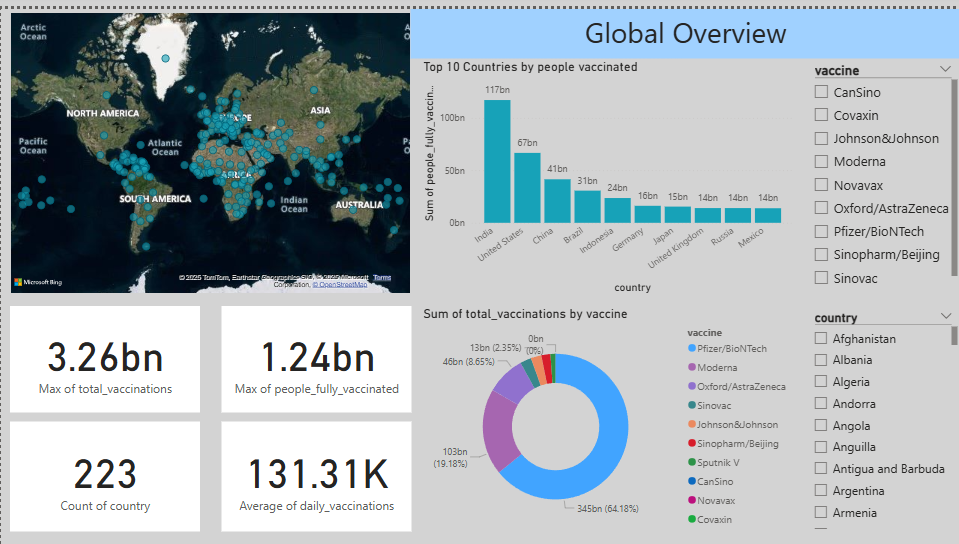

Layout of this report page (visuals, bound fields, positions):
{"tool":"powerbi","page":{"name":"Global Overview","canvas":[1280,720],"ordinal":0},"visuals":[{"type":"card","fields":{"Values":["Max(vaccine_cleaned.total_vaccinations)"]},"box":[12.9,395.2,253.2,141.9],"z":0},{"type":"card","fields":{"Values":["Max(vaccine_cleaned.people_fully_vaccinated)"]},"box":[293.5,395.2,253.2,141.9],"z":1000},{"type":"card","fields":{"Values":["Count(vaccine_cleaned.country)"]},"box":[12.9,550,253.2,146.8],"z":2000},{"type":"card","fields":{"Values":["Avg(vaccine_cleaned.daily_vaccinations)"]},"box":[293.5,550,253.2,146.8],"z":3000},{"type":"map","title":"countries fully vaccinates","fields":{"Category":["vaccine_cleaned.country","vaccine_cleaned.people_fully_vaccinated_per_hundred"]},"box":[12.9,0,533.9,383.9],"z":4000},{"type":"columnChart","title":"Top 10 Countries by people vaccinated","fields":{"Category":["vaccine_cleaned.country"],"Y":["Sum(vaccine_cleaned.people_fully_vaccinated)"]},"box":[558.1,66.1,503.2,317.7],"z":5000},{"type":"donutChart","fields":{"Category":["country_vaccinations_by_manufacturer.vaccine"],"Y":["Sum(country_vaccinations_by_manufacturer.total_vaccinations)"]},"box":[558.1,395.2,503.2,301.6],"z":6000},{"type":"slicer","fields":{"Values":["country_vaccinations_by_manufacturer.vaccine"]},"box":[1072.6,66.1,208.1,317.7],"z":7000},{"type":"slicer","fields":{"Values":["vaccine_cleaned.country"]},"box":[1072.6,395.2,208.1,301.6],"z":8000},{"type":"textbox","box":[546.8,0,733.9,66.1],"z":9000}]}

Visuals, with their boxes in screenshot pixels (x1, y1, x2, y2), scaled from the page's 1280x720 canvas onto the 959x544 screenshot:
card - Max(vaccine_cleaned.total_vaccinations): (10,299,199,406)
card - Max(vaccine_cleaned.people_fully_vaccinated): (220,299,410,406)
card - Count(vaccine_cleaned.country): (10,416,199,526)
card - Avg(vaccine_cleaned.daily_vaccinations): (220,416,410,526)
"countries fully vaccinates" map: (10,0,410,290)
"Top 10 Countries by people vaccinated" columnChart: (418,50,795,290)
donutChart - country_vaccinations_by_manufacturer.vaccine x Sum(country_vaccinations_by_manufacturer.total_vaccinations): (418,299,795,526)
slicer - country_vaccinations_by_manufacturer.vaccine: (804,50,958,290)
slicer - vaccine_cleaned.country: (804,299,958,526)
textbox: (410,0,958,50)
